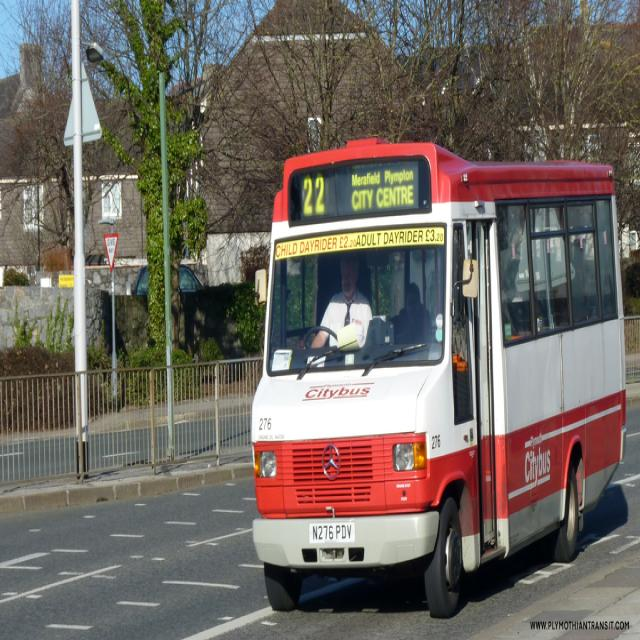Buses: (253, 136, 626, 616)
